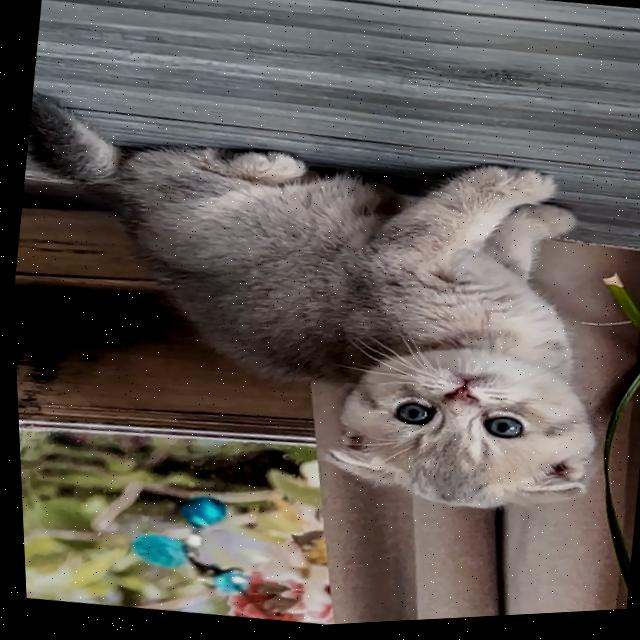Scottish Fold: (3, 65, 640, 556)
